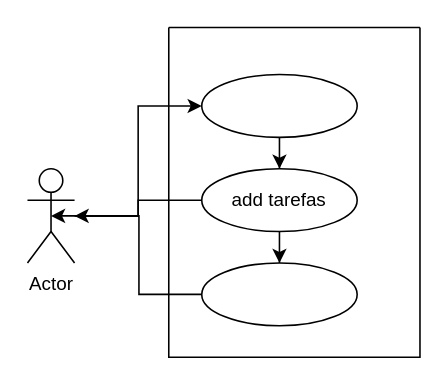
This 447x385 diagram has some shape labels left out. Here are the shapes that lost their labels. From the top down, the centre of each, then its label:
(x=278, y=105): visualizar tarefas
(x=278, y=293): excluir tarefas
